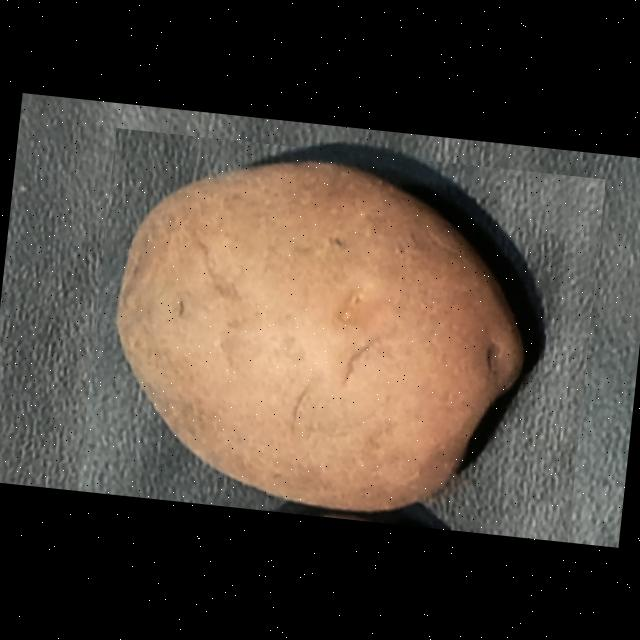Diseased-fungal potato: (78, 128, 606, 543)
